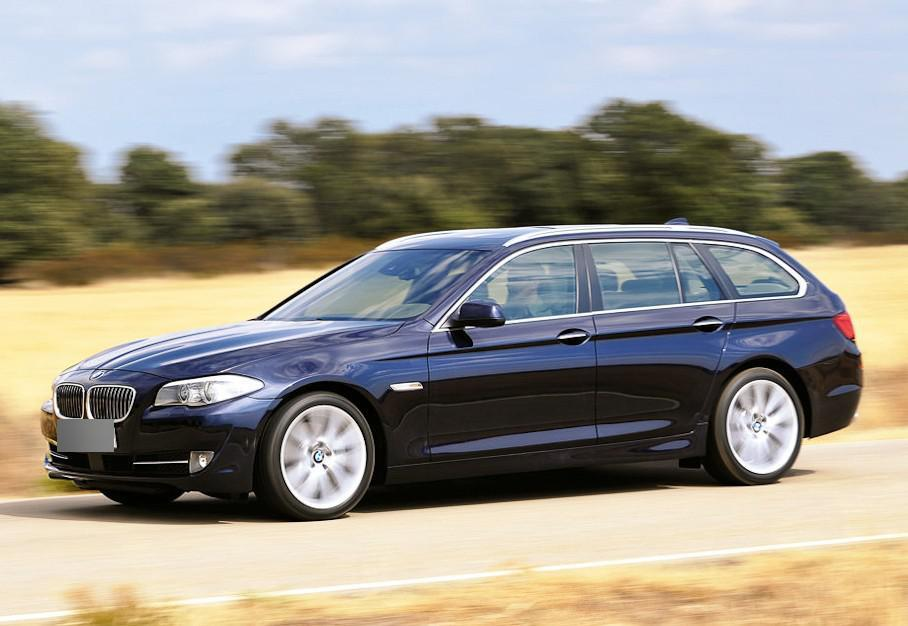Wagon: (38, 219, 863, 523)
